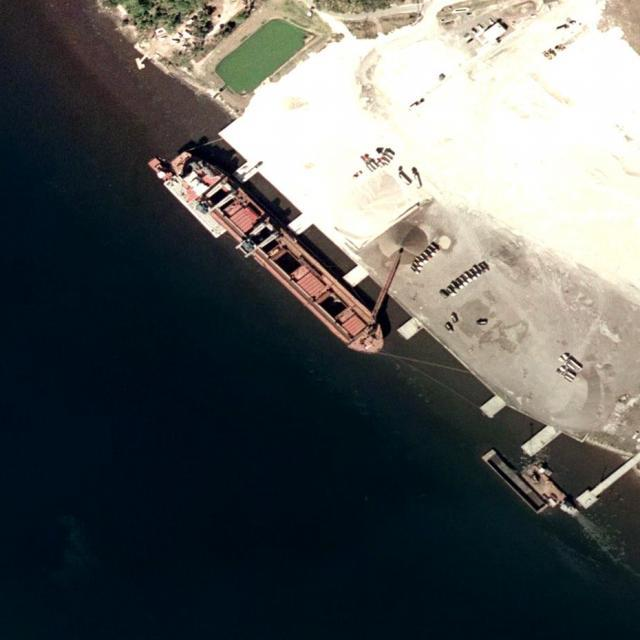Cargo: (161, 138, 396, 365)
